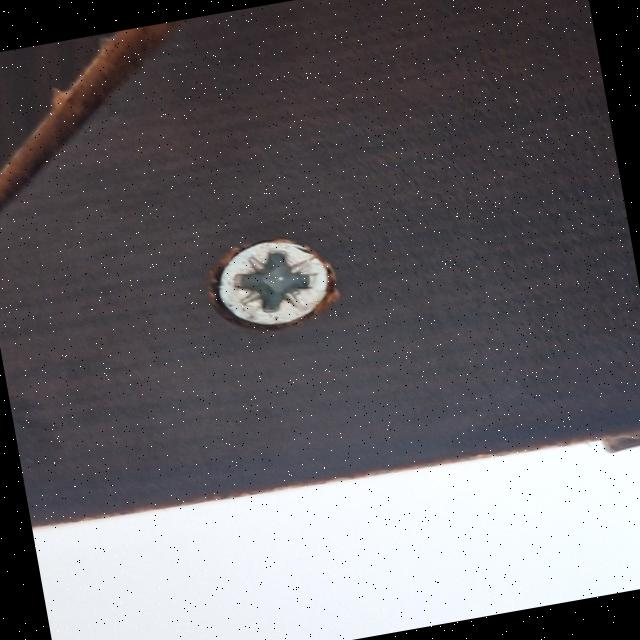Pozidriv: (205, 226, 348, 347)
